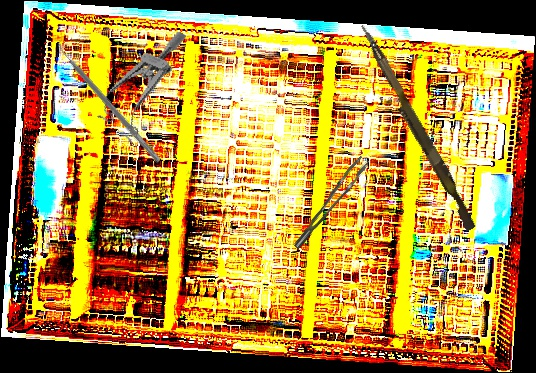Pusher: (351, 23, 482, 232)
Spatula Surgical: (51, 37, 167, 164)
Speculum: (92, 15, 187, 147)
Tissue Forceps: (282, 154, 378, 250)
